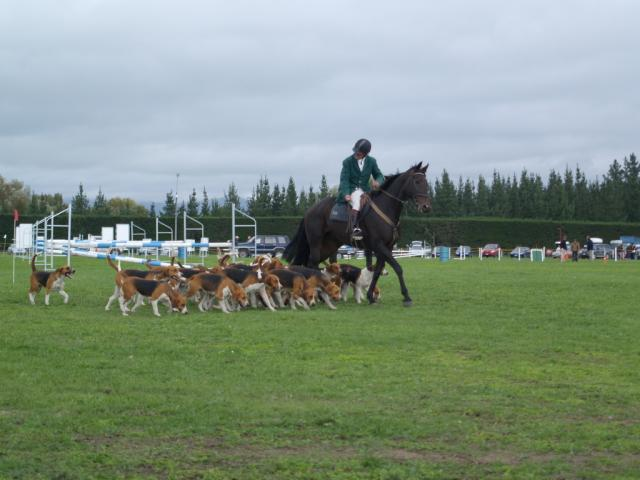Dog: (102, 247, 387, 317), (26, 250, 75, 305)
